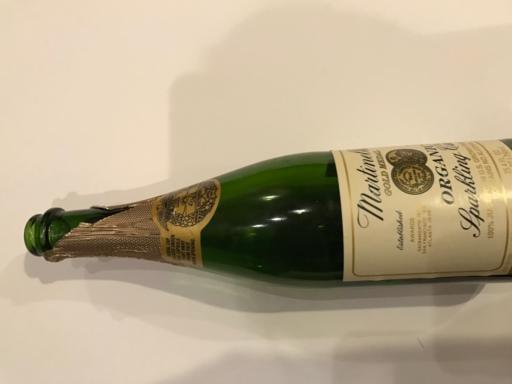botolkaca: (24, 140, 512, 287)
